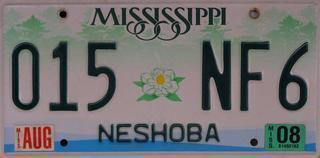placa de veiculo: (4, 2, 320, 156)
